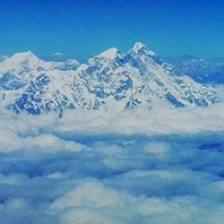neutral: (7, 12, 210, 216)
